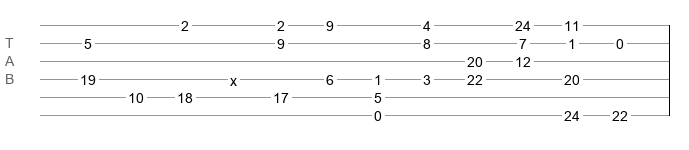0: (374, 108, 382, 118), (616, 36, 624, 46)
1: (374, 72, 382, 82), (568, 36, 576, 46)
10: (128, 90, 144, 100)
11: (564, 18, 580, 28)
12: (515, 54, 531, 64)
17: (273, 90, 289, 100)
18: (177, 90, 193, 100)
19: (80, 72, 96, 82)
2: (181, 18, 189, 28), (277, 18, 285, 28)
20: (467, 54, 483, 64), (564, 72, 580, 82)
22: (467, 72, 483, 82), (612, 108, 628, 118)
24: (515, 18, 531, 28), (564, 108, 580, 118)
3: (423, 72, 431, 82)
4: (423, 18, 431, 28)
5: (84, 36, 92, 46), (374, 90, 382, 100)
6: (326, 72, 334, 82)
7: (519, 36, 527, 46)
8: (423, 36, 431, 46)
9: (277, 36, 285, 46), (326, 18, 334, 28)
x: (230, 73, 237, 81)
